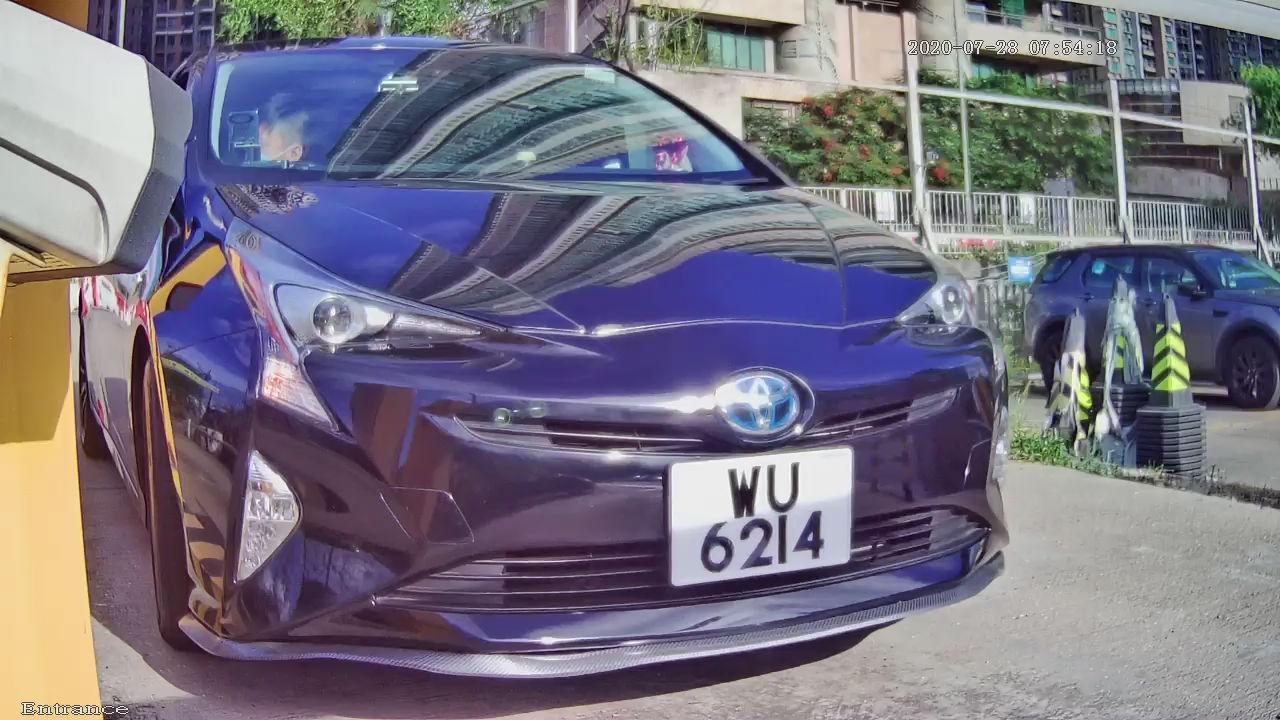privatecar: (35, 29, 1149, 695)
